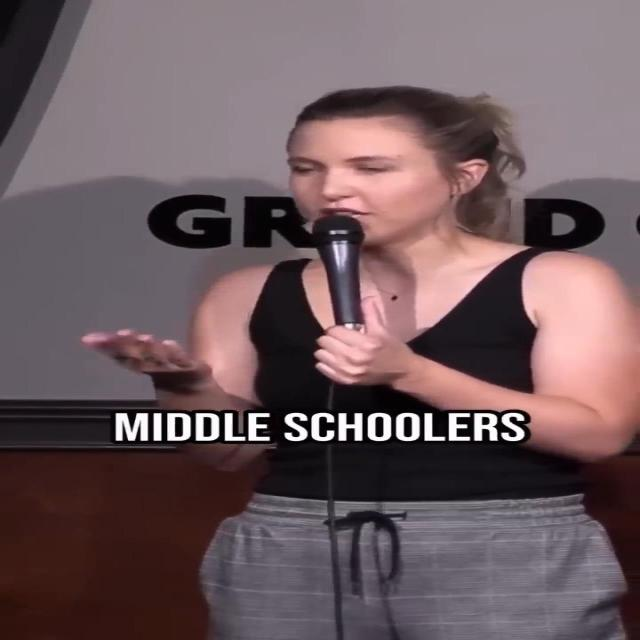NO-Mask: (284, 116, 466, 246)
